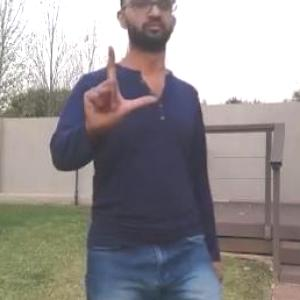land_hand: (82, 38, 162, 136)
